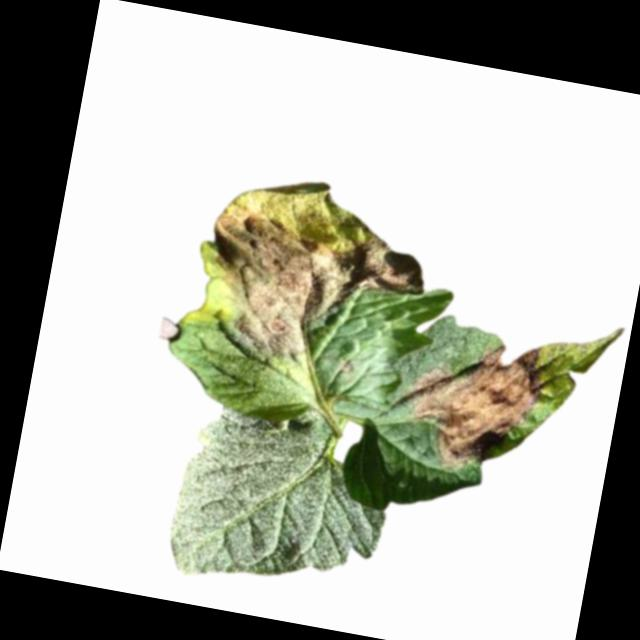Late_blight: (192, 163, 440, 377), (397, 323, 549, 484)
